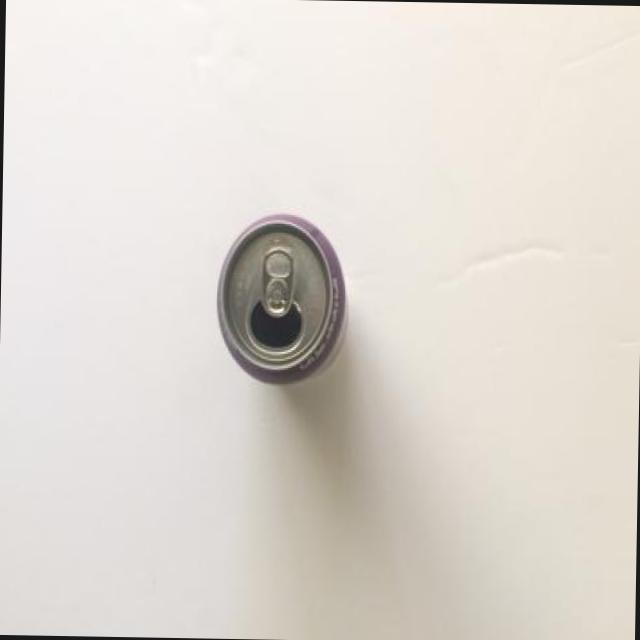kim_loai: (217, 216, 346, 384)
